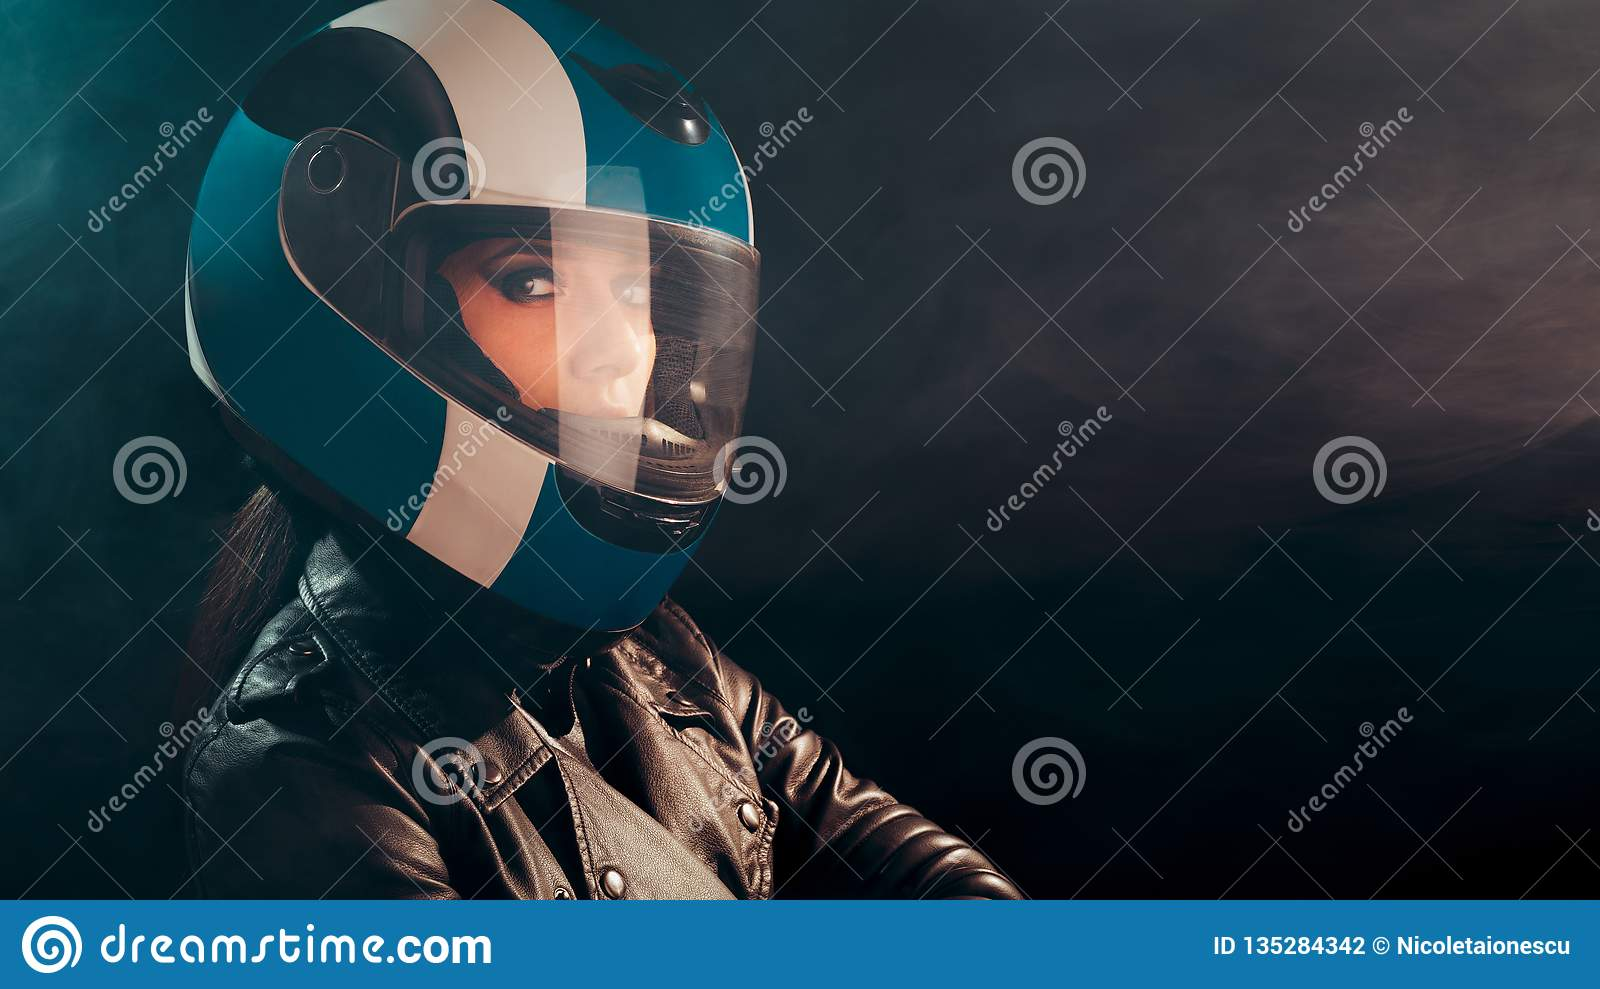helmet: (187, 19, 753, 654)
